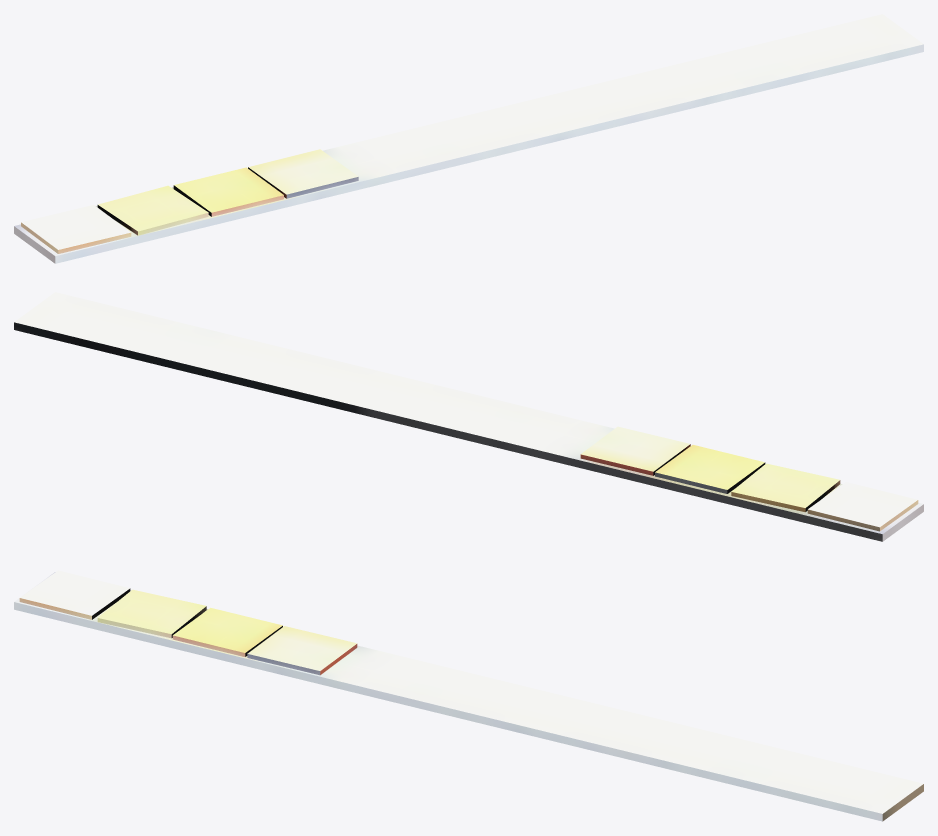
The model's file is strip_ph.glb.
3 renders of one model, top to bottom at view 1: azimuth 30°, elevation 25°; view 2: azimuth 150°, elevation 25°; view 3: azimuth 330°, elevation 25°, orthographic.
Visible parts, largest first — view 1: ph_strips; view 2: ph_strips; view 3: ph_strips.
Boxes of the visible parts, x1,y1,x2,y2 form: ph_strips: (14, 14, 923, 263); ph_strips: (14, 292, 923, 541); ph_strips: (14, 570, 923, 821).
Size of the model in its own units: 0.0241 by 0.000312 by 0.00198.
Materials: 1 (1 with a texture image).
